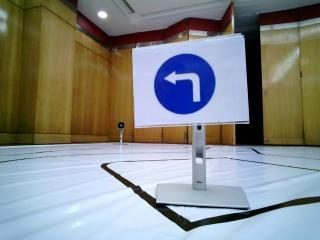left: (132, 47, 248, 122)
